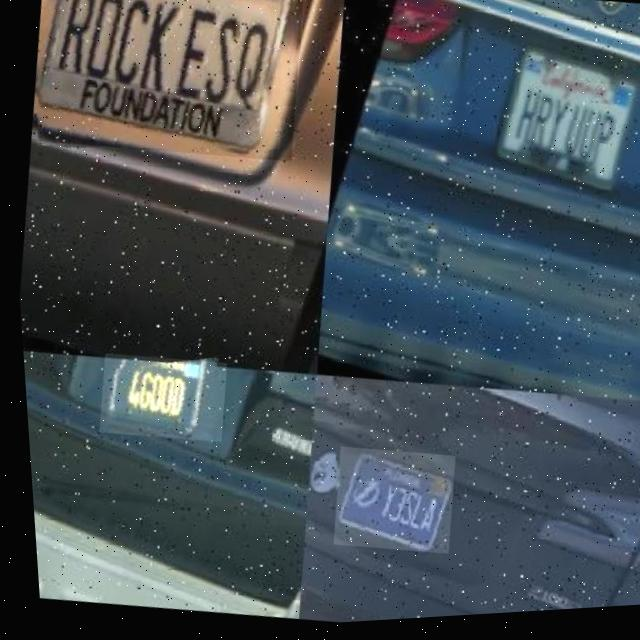LicensePlate: (22, 0, 314, 177), (484, 45, 640, 207), (89, 349, 226, 450), (328, 453, 447, 557)
